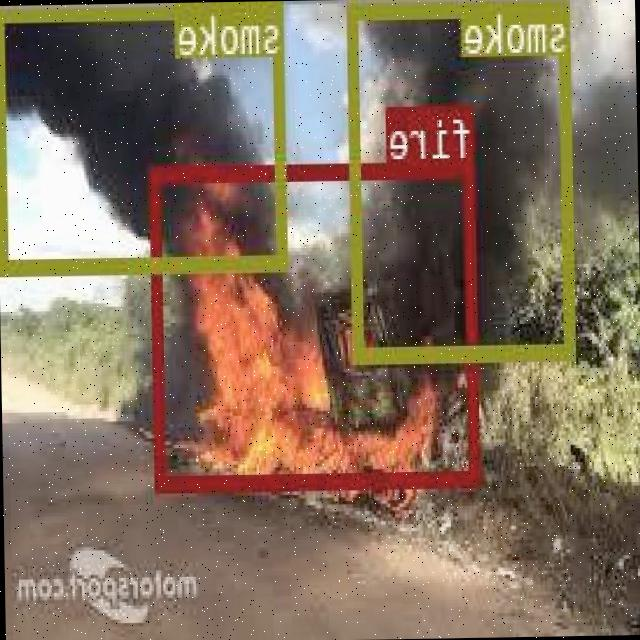fire: (152, 156, 480, 490)
smoke: (350, 0, 577, 357), (0, 0, 290, 269)
